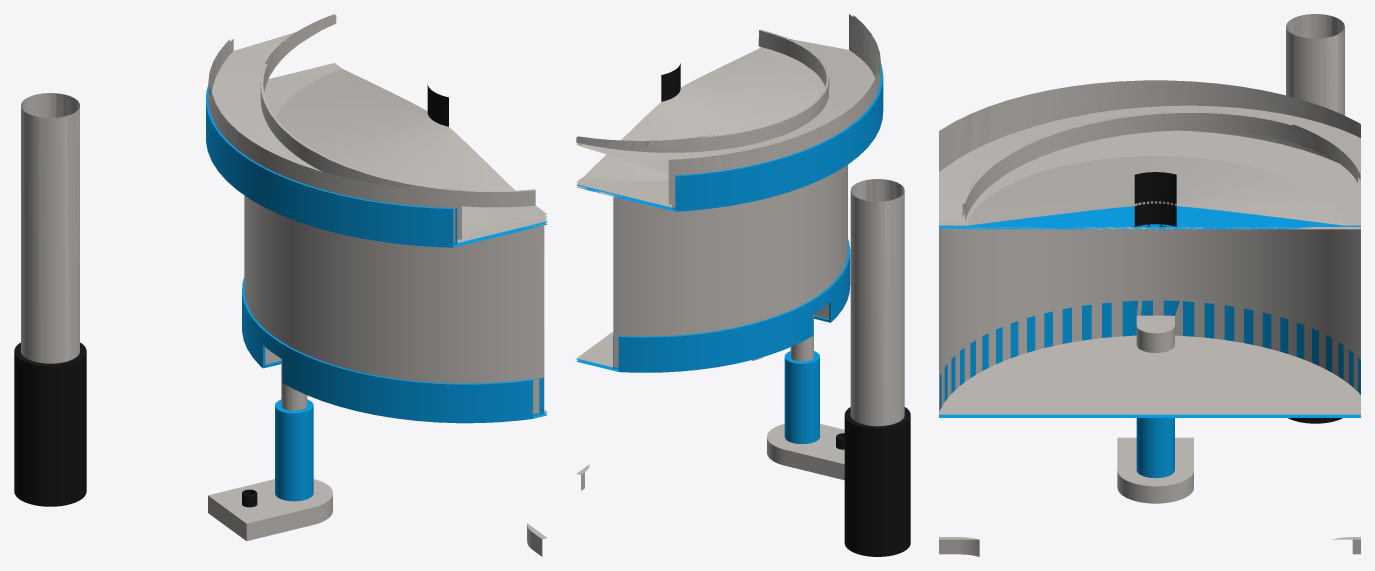
Rendered from PinInsertionStation_Cube04.glb.
The picture shows the model from 3 angles, left to right: view 1: azimuth 30°, elevation 25°; view 2: azimuth 150°, elevation 25°; view 3: azimuth 270°, elevation 25°; orthographic projection. The views are drawn at different scales.
Parts seen in each view (by area): view 1: color-25.003; view 2: color-25.003; view 3: color-25.003.
Part boxes in pixels (bbox=[...]): color-25.003: bbox=[14, 14, 547, 556]; color-25.003: bbox=[576, 14, 910, 556]; color-25.003: bbox=[939, 14, 1360, 556].
Bounding box in the file's own units: 0.3027 × 0.33 × 0.33.
